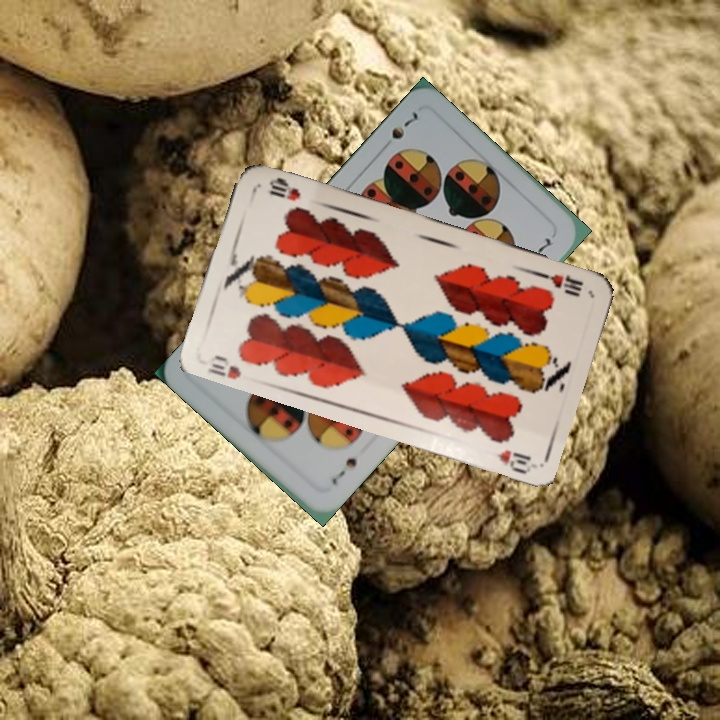H10: (533, 268, 587, 299), (204, 351, 244, 382)
S7: (387, 107, 421, 142), (327, 453, 360, 488)
